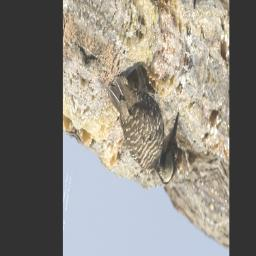Woodpecker: (98, 42, 188, 192)
